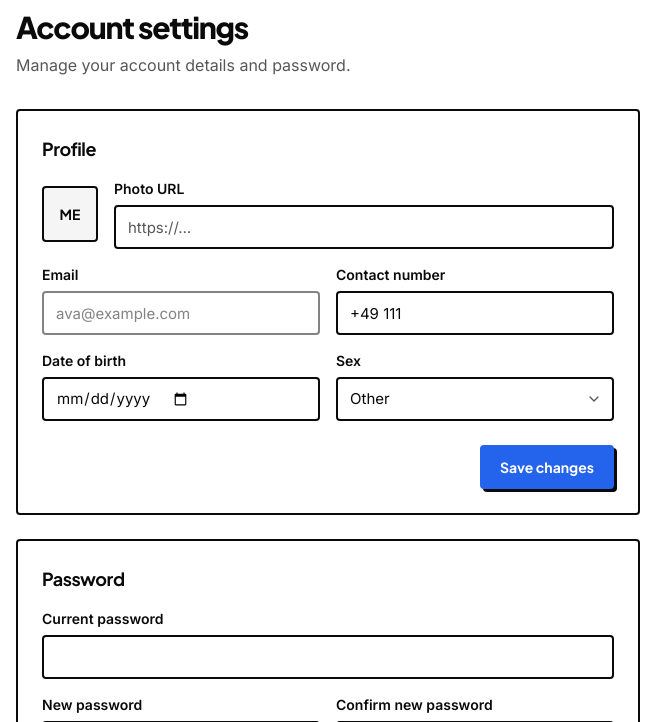
Test: Settings › saves the account, PATCHing /accounts/me/ without an email key
The width and height of the screenshot is (657, 722).
Check: the field labelled "Email" is shown, box top-left (42, 291), bottom-right (320, 335)
Click the button "Save changes".
click(547, 467)  # box top-left (480, 445), bottom-right (614, 489)
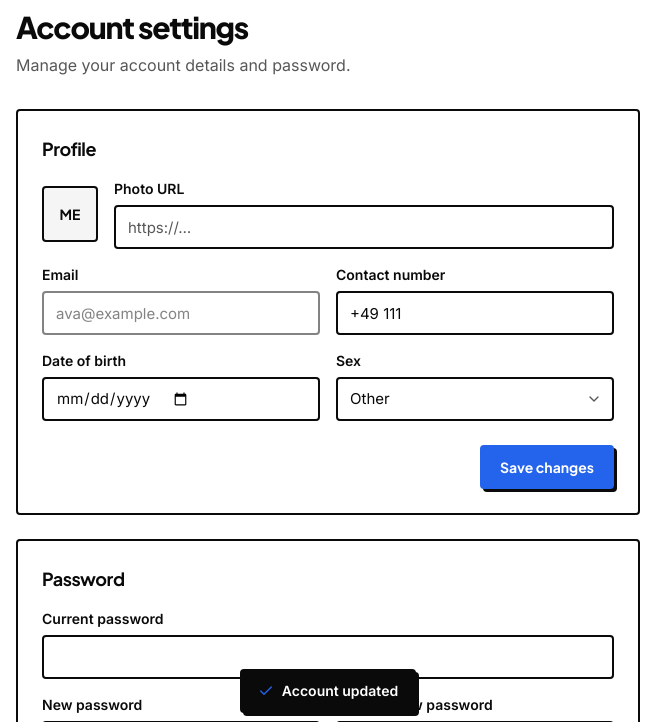
Check: the text "Account updated" is shown, box top-left (240, 669), bottom-right (416, 713)
